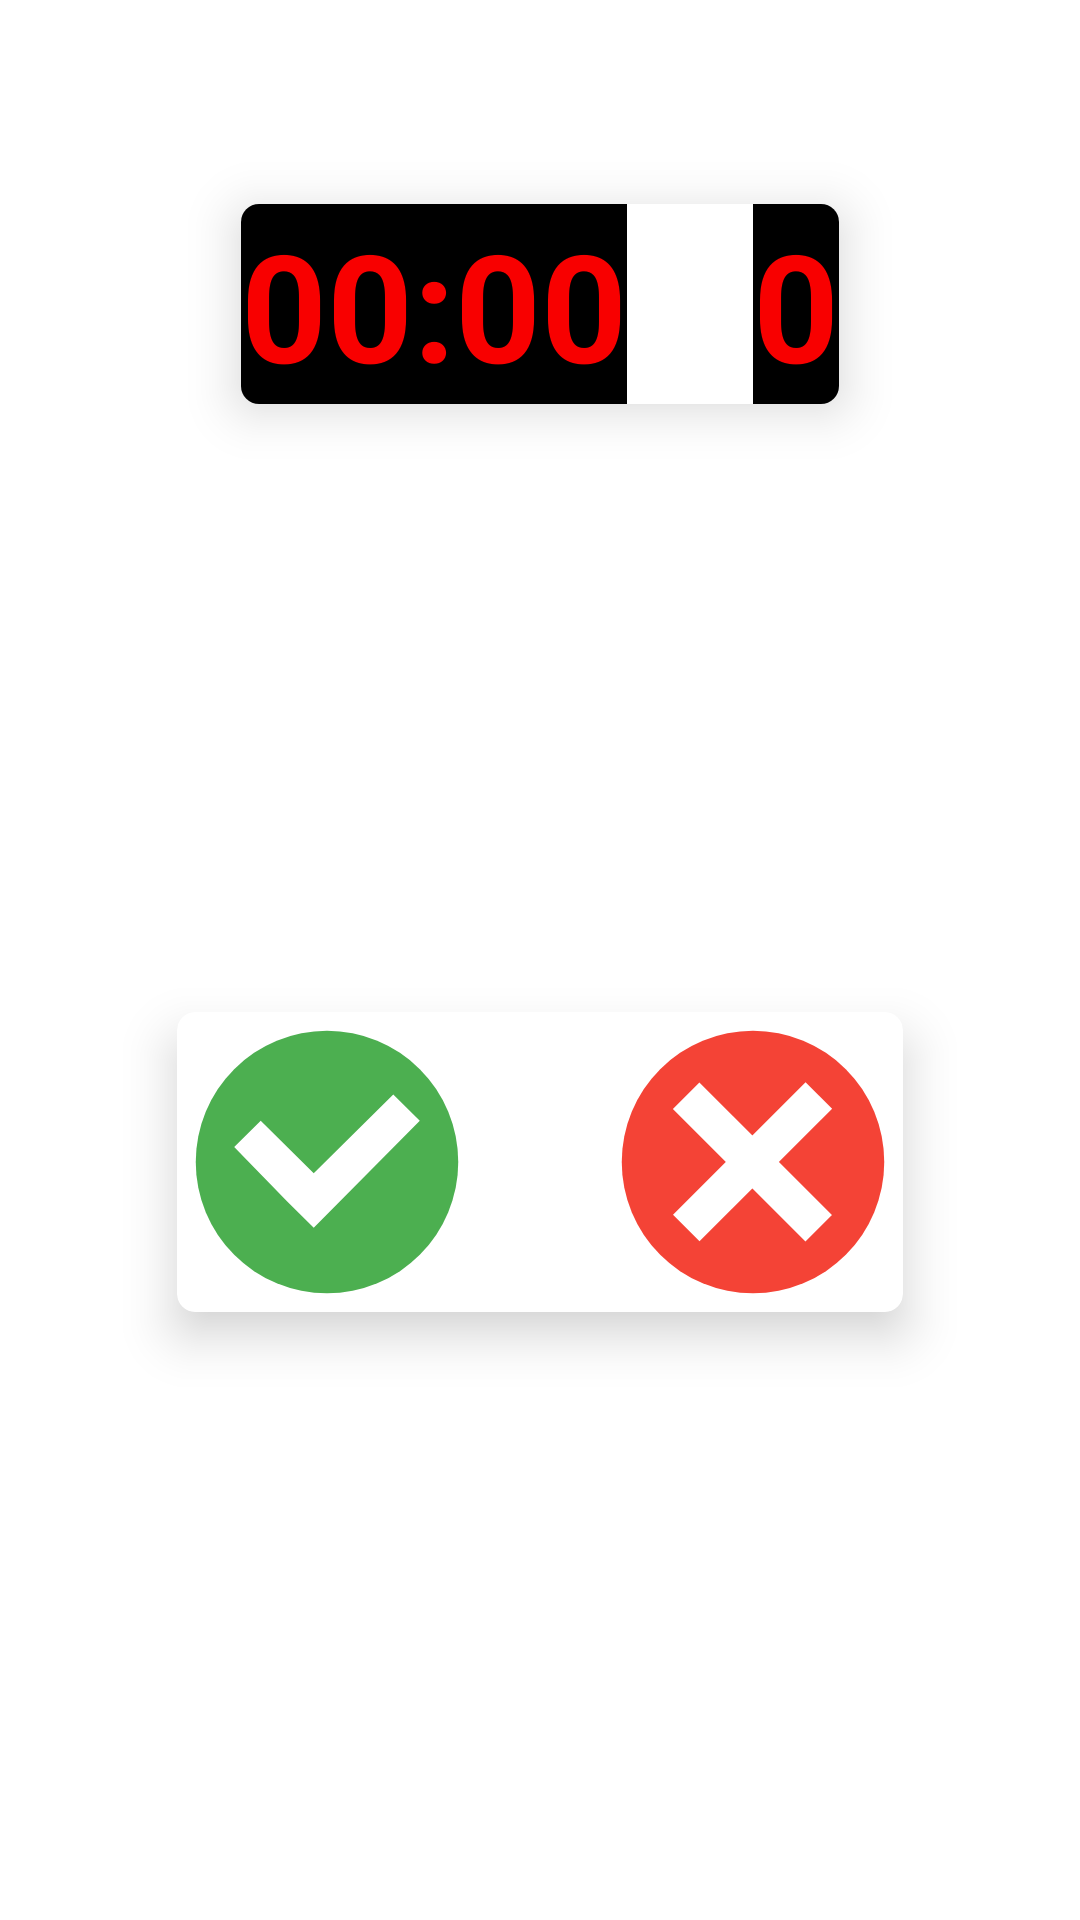

Icon bounding boxes for this 1080x1920 phone screenshot, format (x1, y1, x2, y2):
svgbien: (195, 1030, 459, 1294)
svgmal: (621, 1030, 885, 1294)
